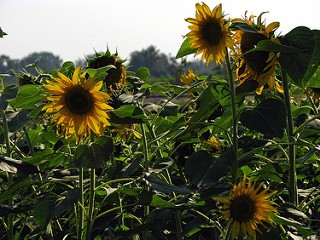flower: (39, 66, 114, 140), (210, 169, 279, 240), (182, 1, 239, 68)
